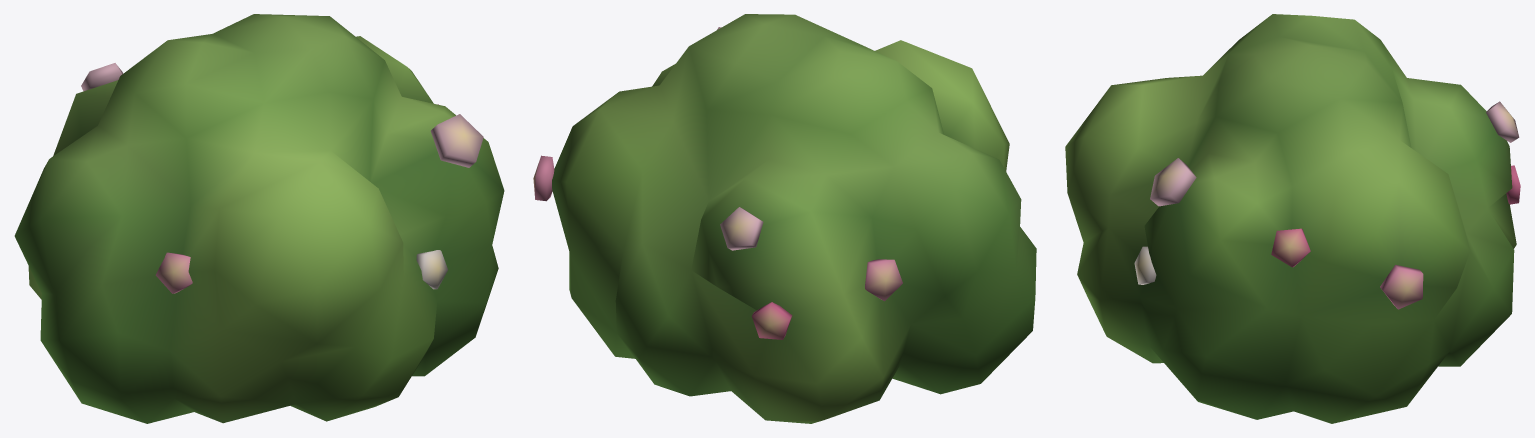
Rendered from bush-a-spring.lod1.glb.
The picture shows the model from 3 angles, left to right: view 1: azimuth 30°, elevation 25°; view 2: azimuth 150°, elevation 25°; view 3: azimuth 270°, elevation 25°; orthographic projection. The views are drawn at different scales.
Visible parts, largest first — view 1: bush-a-spring.lod1; view 2: bush-a-spring.lod1; view 3: bush-a-spring.lod1.
Part boxes in pixels (bbox=[...]): bush-a-spring.lod1: bbox=[14, 14, 504, 423]; bush-a-spring.lod1: bbox=[533, 14, 1036, 423]; bush-a-spring.lod1: bbox=[1065, 14, 1520, 423].
Size of the model in its own units: 1.03 by 0.8097 by 0.9756.
